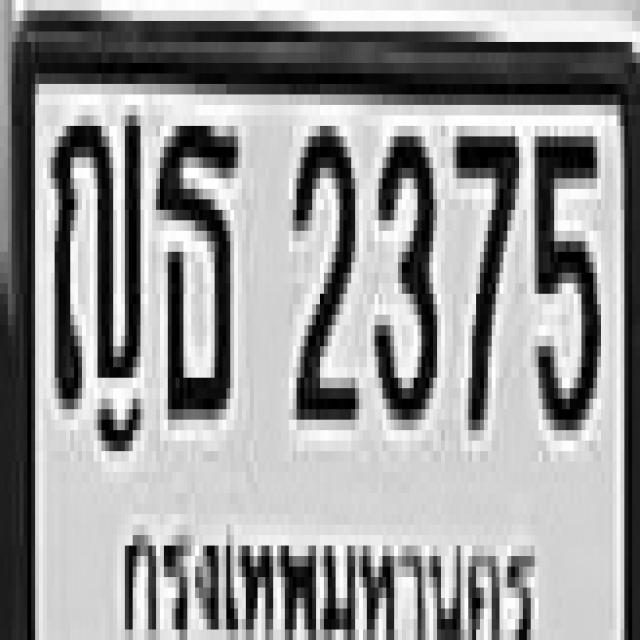2: (289, 116, 351, 410)
22YorYing: (48, 100, 138, 404)
3: (371, 126, 433, 409)
33ThorThong: (152, 116, 234, 410)
5: (531, 126, 597, 420)
7: (453, 126, 515, 420)
Bangkok: (118, 502, 541, 640)
